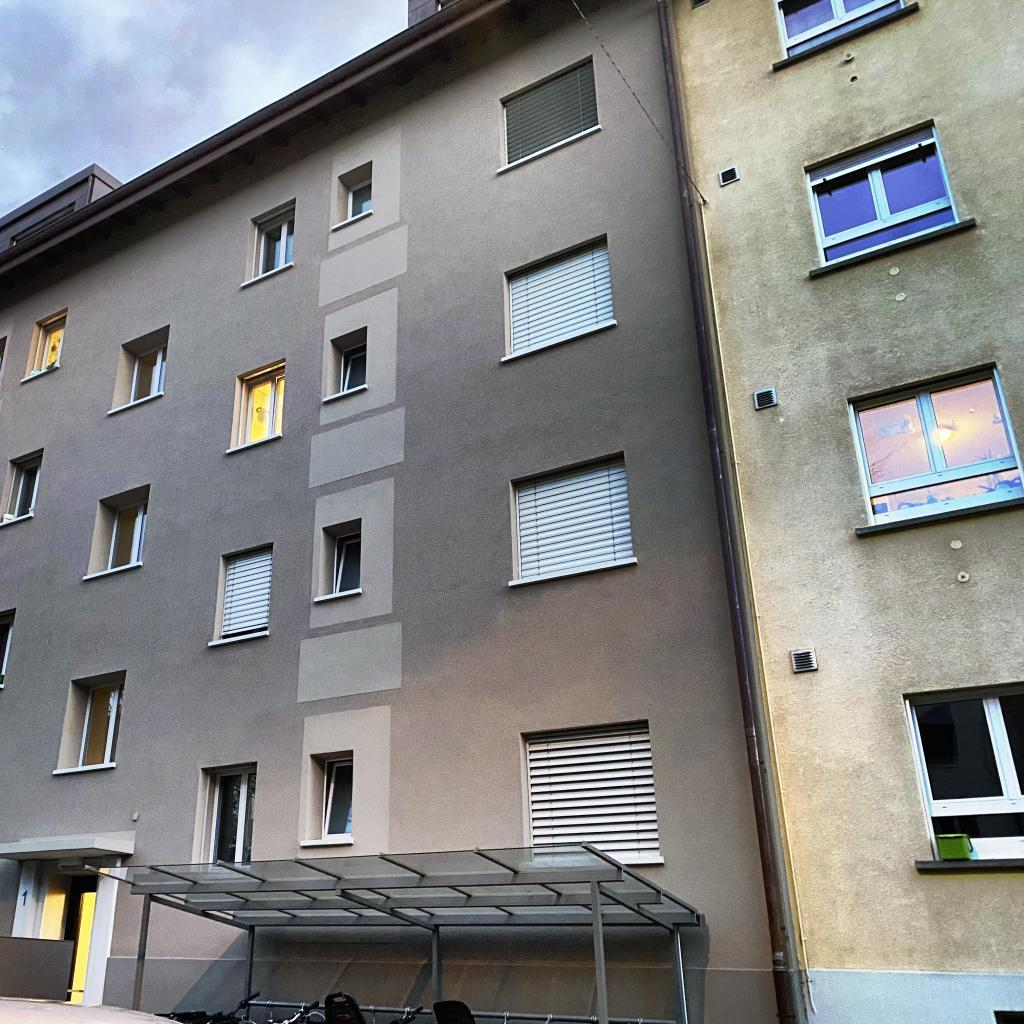car: (0, 995, 184, 1024)
facade: (0, 0, 1024, 1024)
non-building-infrastructure: (83, 841, 701, 1024)
window: (852, 368, 1024, 523), (805, 125, 958, 267), (910, 688, 1024, 860), (526, 725, 659, 857), (515, 460, 632, 579), (508, 240, 612, 354), (503, 59, 597, 165), (775, 0, 903, 58), (58, 875, 97, 1001), (220, 547, 272, 640), (209, 769, 257, 863), (77, 680, 125, 765), (244, 371, 285, 444), (108, 499, 149, 569), (130, 342, 168, 403), (323, 758, 352, 837), (258, 214, 295, 275), (334, 531, 361, 592), (14, 462, 41, 519), (340, 341, 366, 392), (40, 321, 66, 371), (347, 177, 371, 219)
